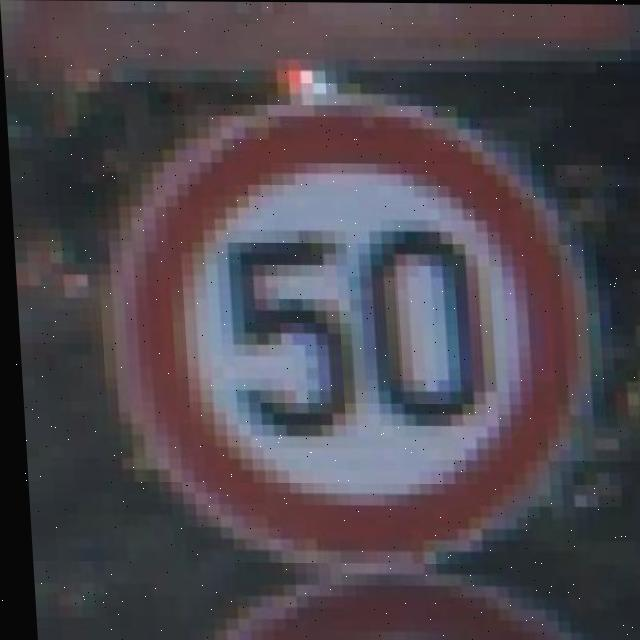Speed limit 50: (92, 78, 592, 574)
